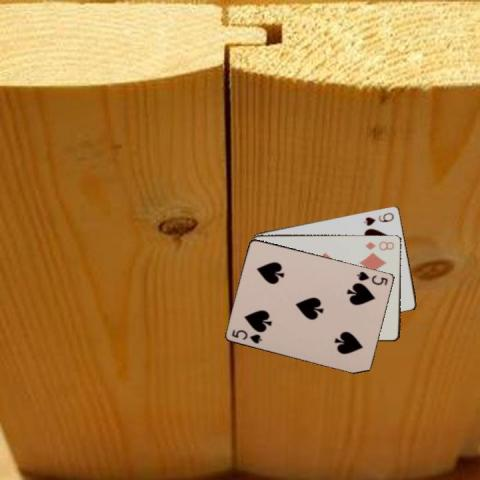5s: (354, 268, 389, 287), (229, 326, 264, 344)
8d: (363, 238, 395, 251)
9s: (361, 209, 395, 227)
